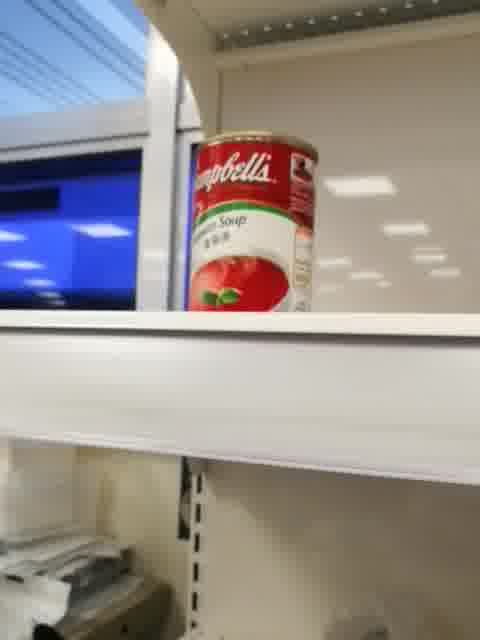tomatosoup: (186, 130, 321, 313)
